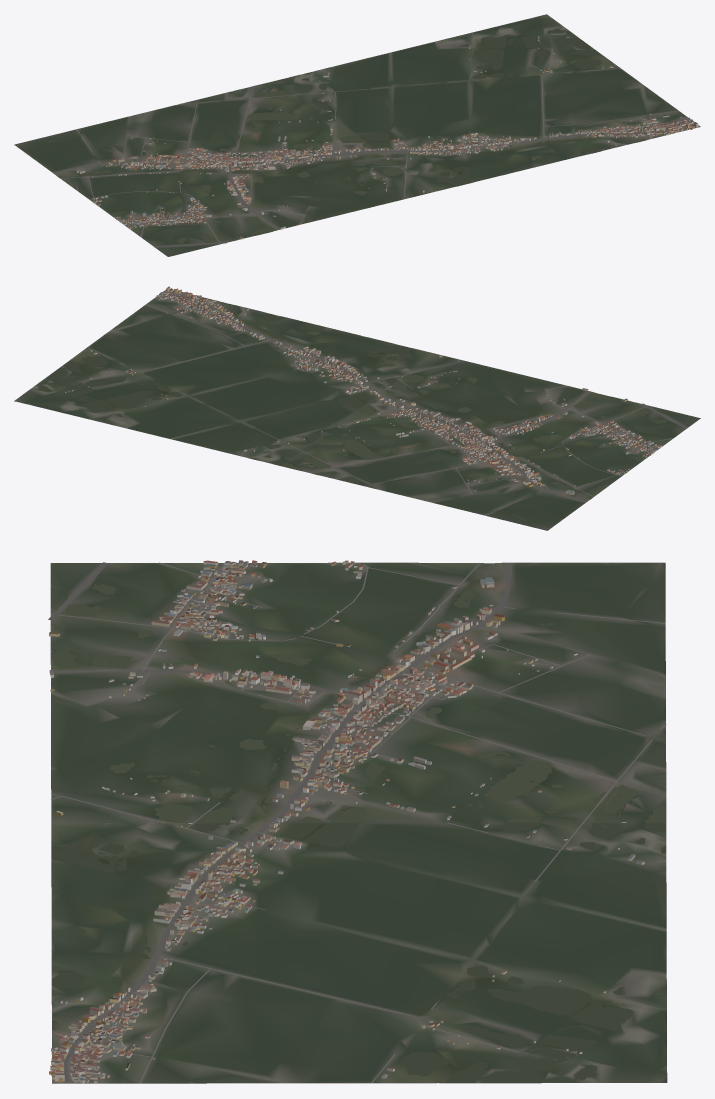
3 renders of one model, top to bottom at view 1: azimuth 30°, elevation 25°; view 2: azimuth 150°, elevation 25°; view 3: azimuth 270°, elevation 25°, orthographic. The views are drawn at different scales.
Parts seen in each view (by area): view 1: ground, buildings, water, roads; view 2: ground, buildings, water, roads; view 3: ground, buildings, water, roads.
Boxes of the visible parts, x1,y1,x2,y2 form: ground: (14,14,700,256); buildings: (75,36,698,239); water: (60,29,645,243); roads: (52,49,693,247); ground: (14,290,700,530); buildings: (65,286,662,494); water: (37,302,667,498); roads: (82,291,687,515); ground: (50,562,667,1083); buildings: (49,560,644,1083); water: (51,564,665,1082); roads: (48,562,666,1083).
Size of the model in its own units: 2812 by 22.66 by 1412.
